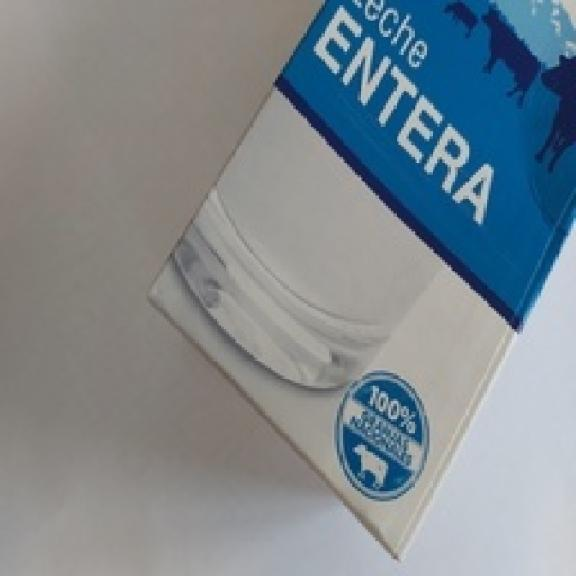Kertas: (152, 0, 575, 558)
